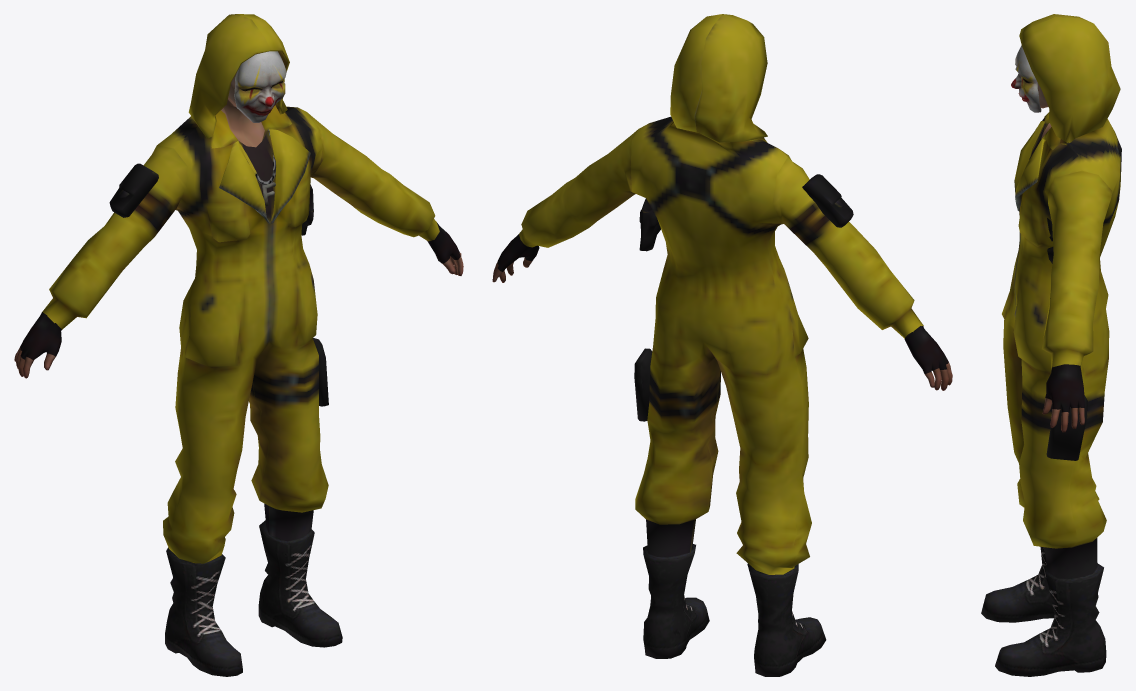
Rendered from Top_Criminal_Yellow.FBX.
3 views of the same model, side by side, from view 1: azimuth 30°, elevation 25°; view 2: azimuth 150°, elevation 25°; view 3: azimuth 270°, elevation 25° (orthographic). The views are drawn at different scales.
Parts seen in each view (by area): view 1: Yellow; view 2: Yellow; view 3: Yellow.
Boxes of the visible parts, x1,y1,x2,y2 form: Yellow: (14, 14, 463, 676); Yellow: (492, 14, 952, 676); Yellow: (981, 14, 1121, 676).
Bounding box in the file's own units: 1.37 × 1.85 × 0.3766.
